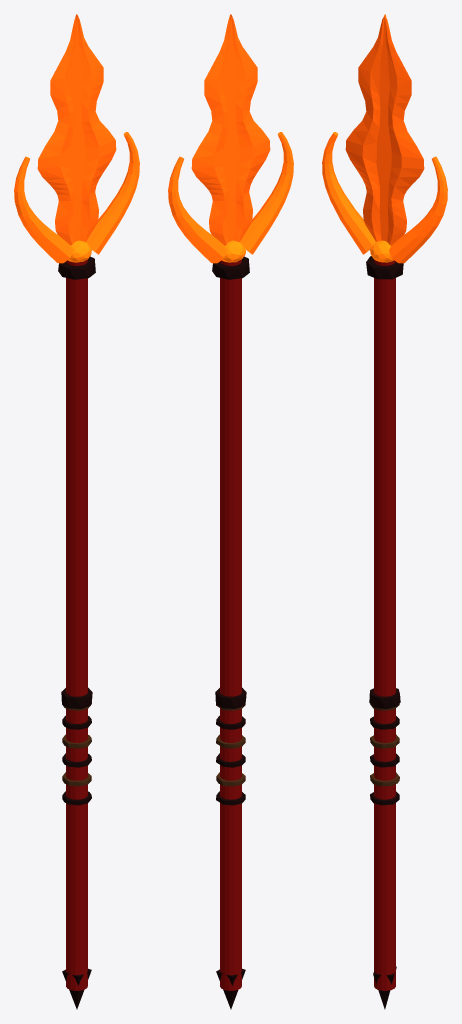
The model's file is spear_4.glb.
3 views of the same model, side by side, from view 1: azimuth 30°, elevation 25°; view 2: azimuth 210°, elevation 25°; view 3: azimuth 330°, elevation 25° (orthographic).
Parts seen in each view (by area): view 1: part_01, part_11, part_13, part_12, part_09, part_10, part_14; view 2: part_01, part_11, part_12, part_13, part_09, part_10, part_14; view 3: part_01, part_11, part_12, part_13, part_09, part_10, part_14.
Part boxes in pixels (x1=…): part_01: x1=66, y1=259, x2=87, y2=990; part_11: x1=37, y1=14, x2=116, y2=245; part_13: x1=86, y1=132, x2=139, y2=254; part_12: x1=14, y1=156, x2=72, y2=263; part_09: x1=58, y1=256, x2=95, y2=279; part_10: x1=61, y1=687, x2=92, y2=708; part_14: x1=68, y1=240, x2=91, y2=262; part_01: x1=220, y1=259, x2=241, y2=990; part_11: x1=191, y1=14, x2=270, y2=245; part_12: x1=240, y1=132, x2=293, y2=254; part_13: x1=168, y1=156, x2=226, y2=263; part_09: x1=212, y1=256, x2=249, y2=279; part_10: x1=215, y1=687, x2=246, y2=708; part_14: x1=222, y1=240, x2=245, y2=262; part_01: x1=374, y1=259, x2=395, y2=990; part_11: x1=345, y1=14, x2=424, y2=245; part_12: x1=322, y1=132, x2=375, y2=254; part_13: x1=389, y1=156, x2=447, y2=263; part_09: x1=366, y1=256, x2=403, y2=279; part_10: x1=369, y1=688, x2=400, y2=709; part_14: x1=370, y1=240, x2=393, y2=262.
Size of the model in its own units: 0.2486 by 1.89 by 0.0648.
